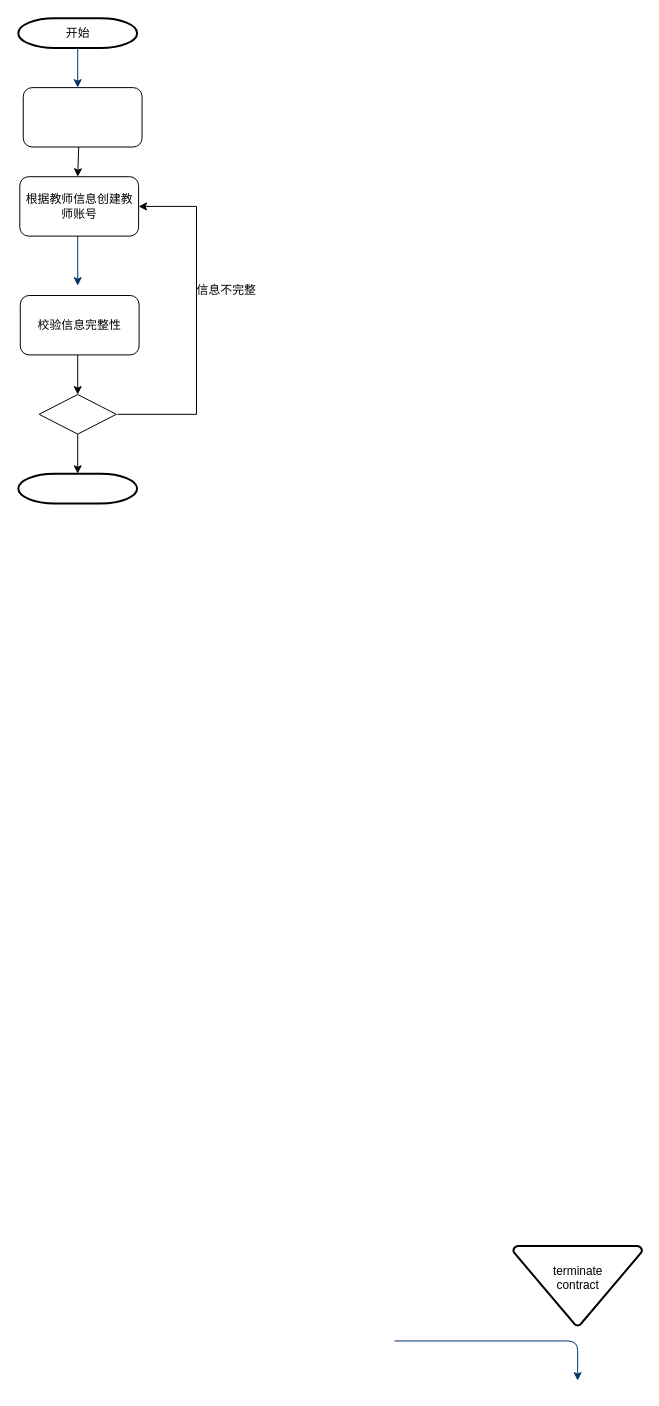
Image size: 659x1406. Some labels were removed from this diagram. The shapes that lost their labels are listed below. From the top down, each one's centre as x and y in pixels, then its label:
point (82, 117): 管理员登录
point (77, 488): 结束
